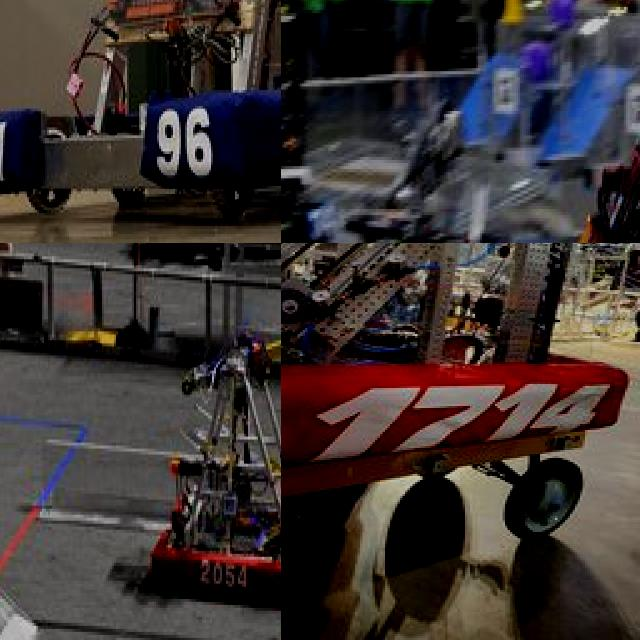FRC-Robots: (281, 243, 640, 466), (0, 0, 281, 205), (132, 246, 281, 610), (363, 127, 528, 243), (281, 0, 345, 243)
